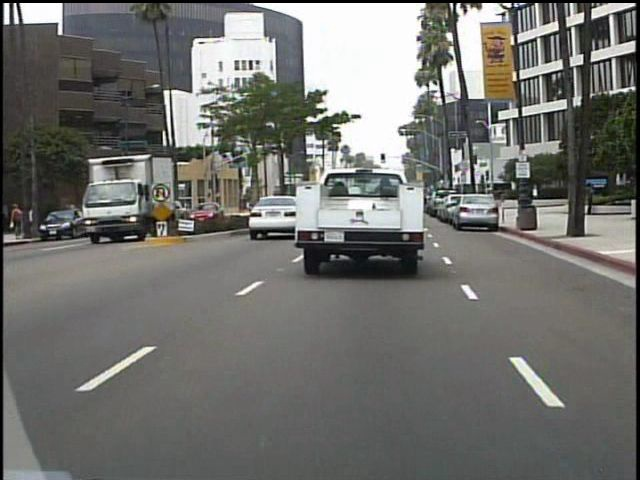person: (584, 179, 599, 217)
